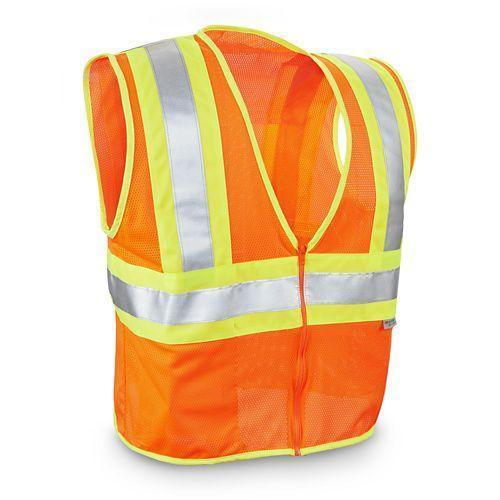vest: (79, 17, 417, 473)
